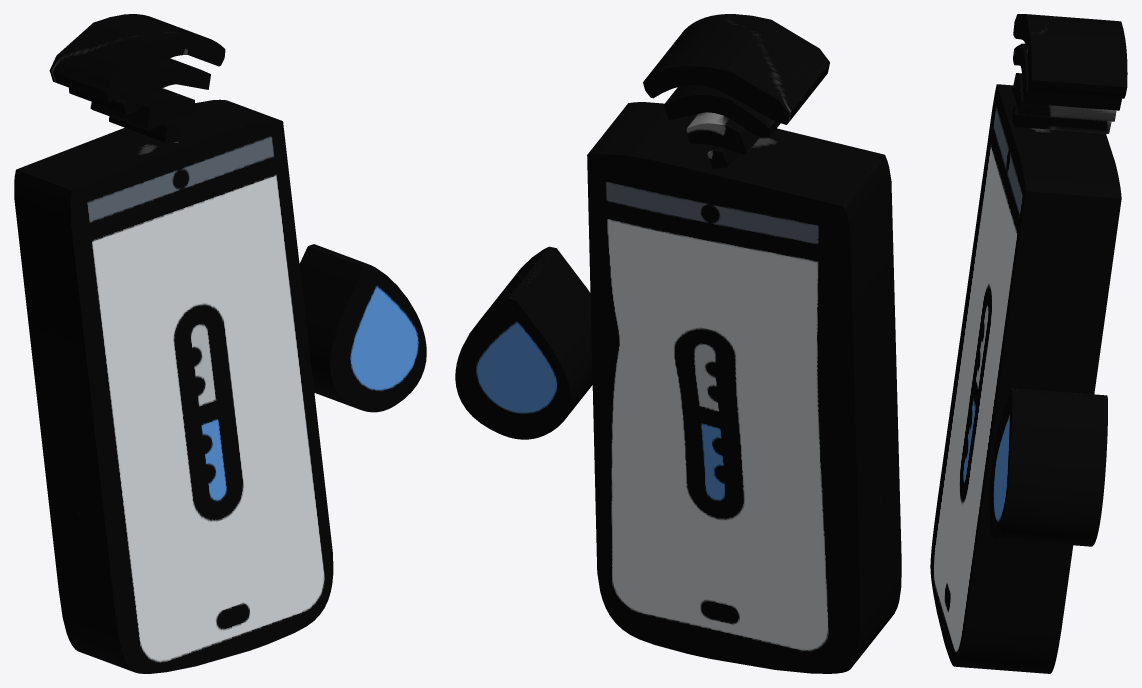
File: sesnor humidity1.fbx
3 renders of one model, left to right at view 1: azimuth 30°, elevation 25°; view 2: azimuth 150°, elevation 25°; view 3: azimuth 270°, elevation 25°, orthographic. The views are drawn at different scales.
Parts seen in each view (by area): view 1: node_id6, node_id12; view 2: node_id18, node_id12; view 3: node_id12, node_id6.
Boxes of the visible parts, x1,y1,x2,y2 form: node_id6: (70, 35, 426, 673); node_id12: (14, 14, 369, 671); node_id18: (455, 66, 860, 673); node_id12: (481, 14, 901, 665); node_id12: (955, 14, 1127, 673); node_id6: (930, 14, 1031, 666).
Size of the model in its own units: 0.3259 by 0.5068 by 0.1482.
Materials: 3 (3 with a texture image).
